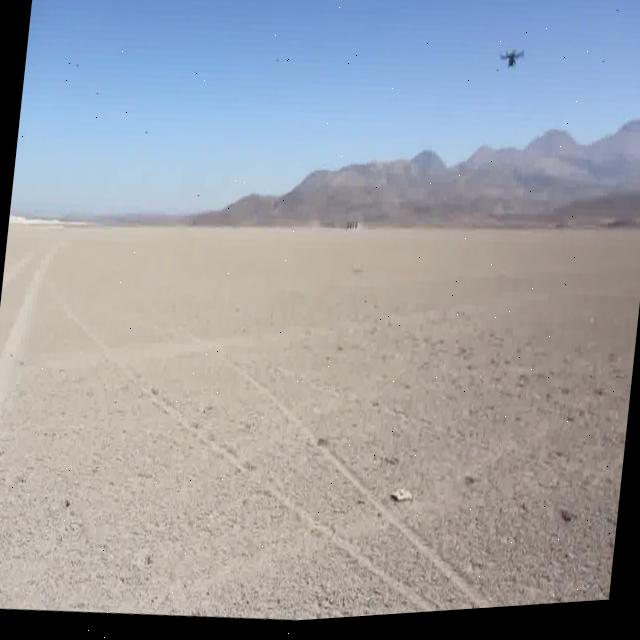drone: (494, 48, 526, 81)
